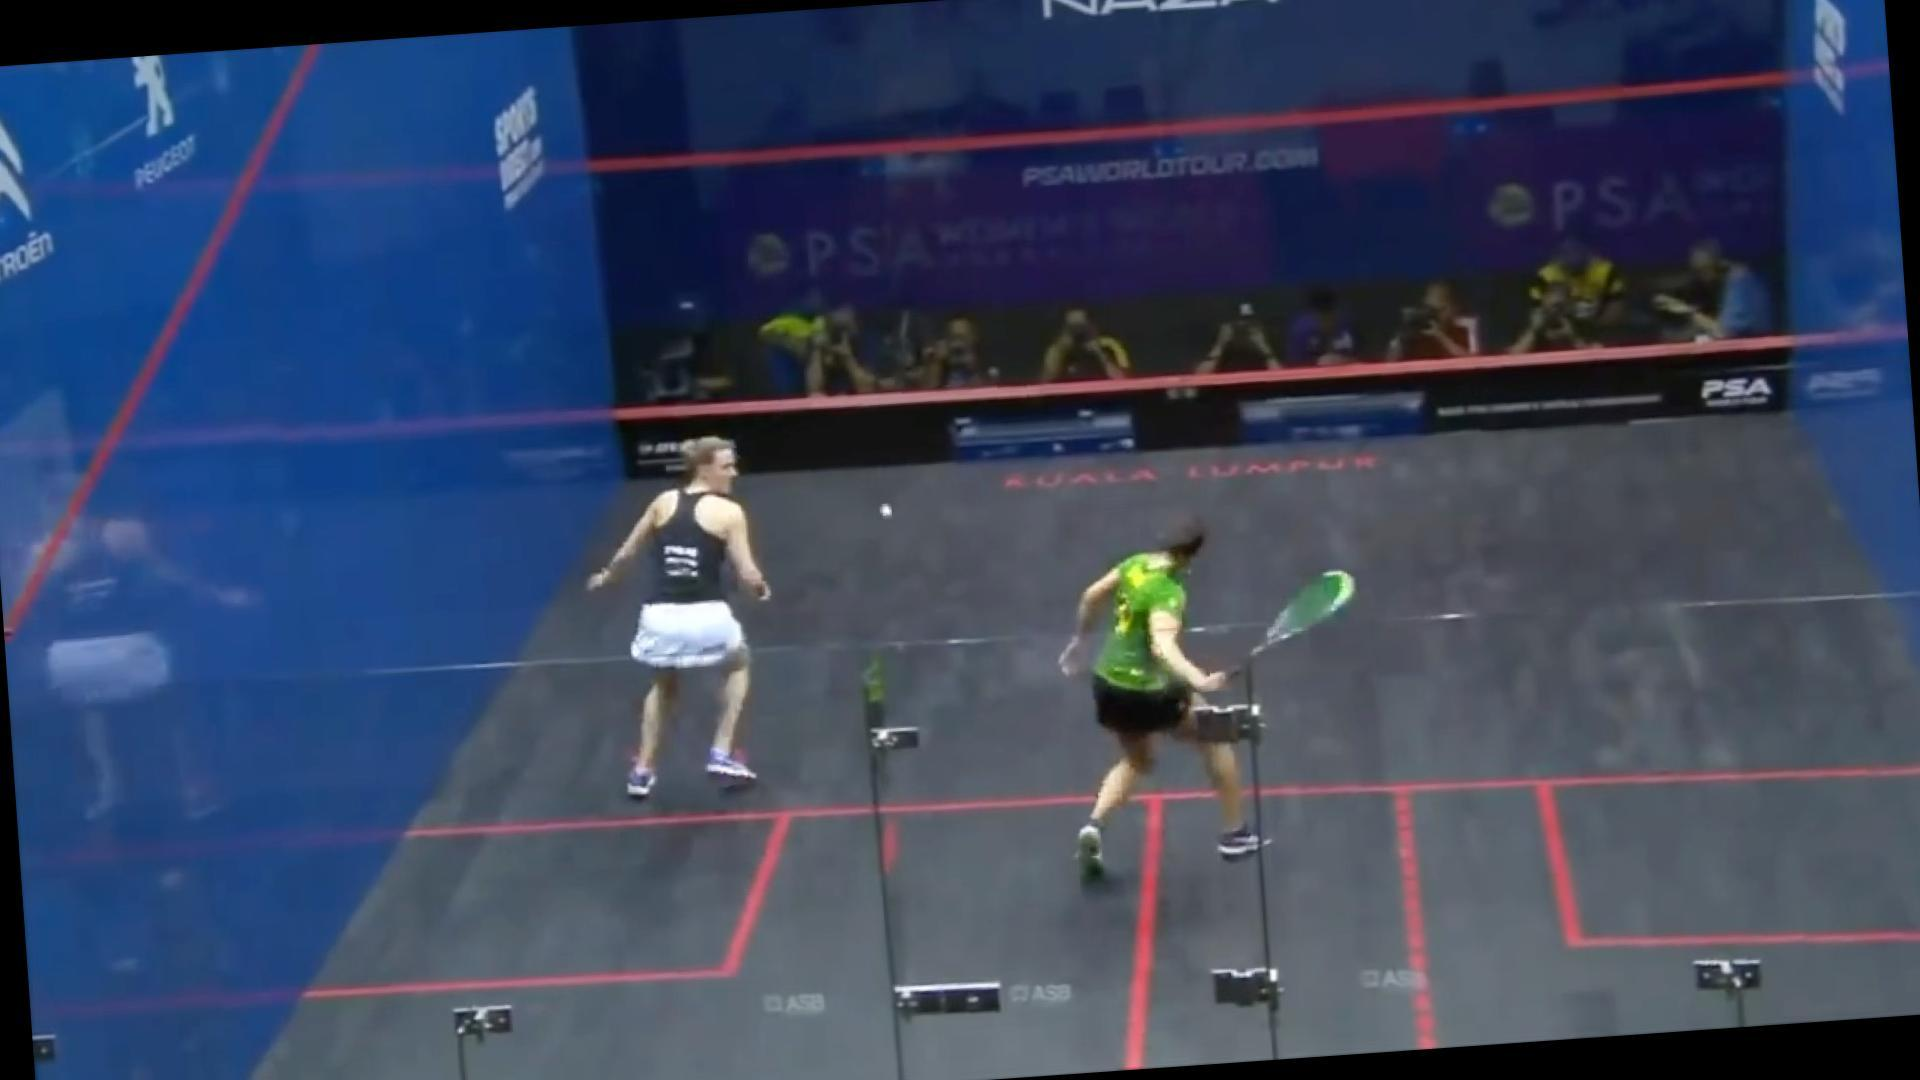Squash-Ball: (864, 491, 907, 531)
